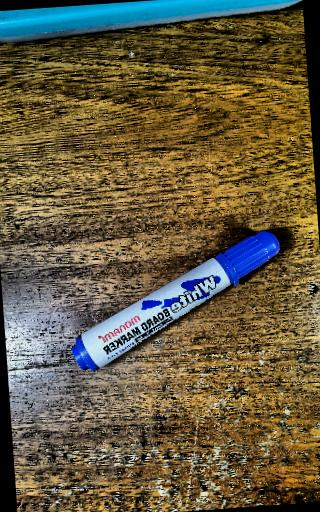marcador azul: (72, 230, 280, 371)
